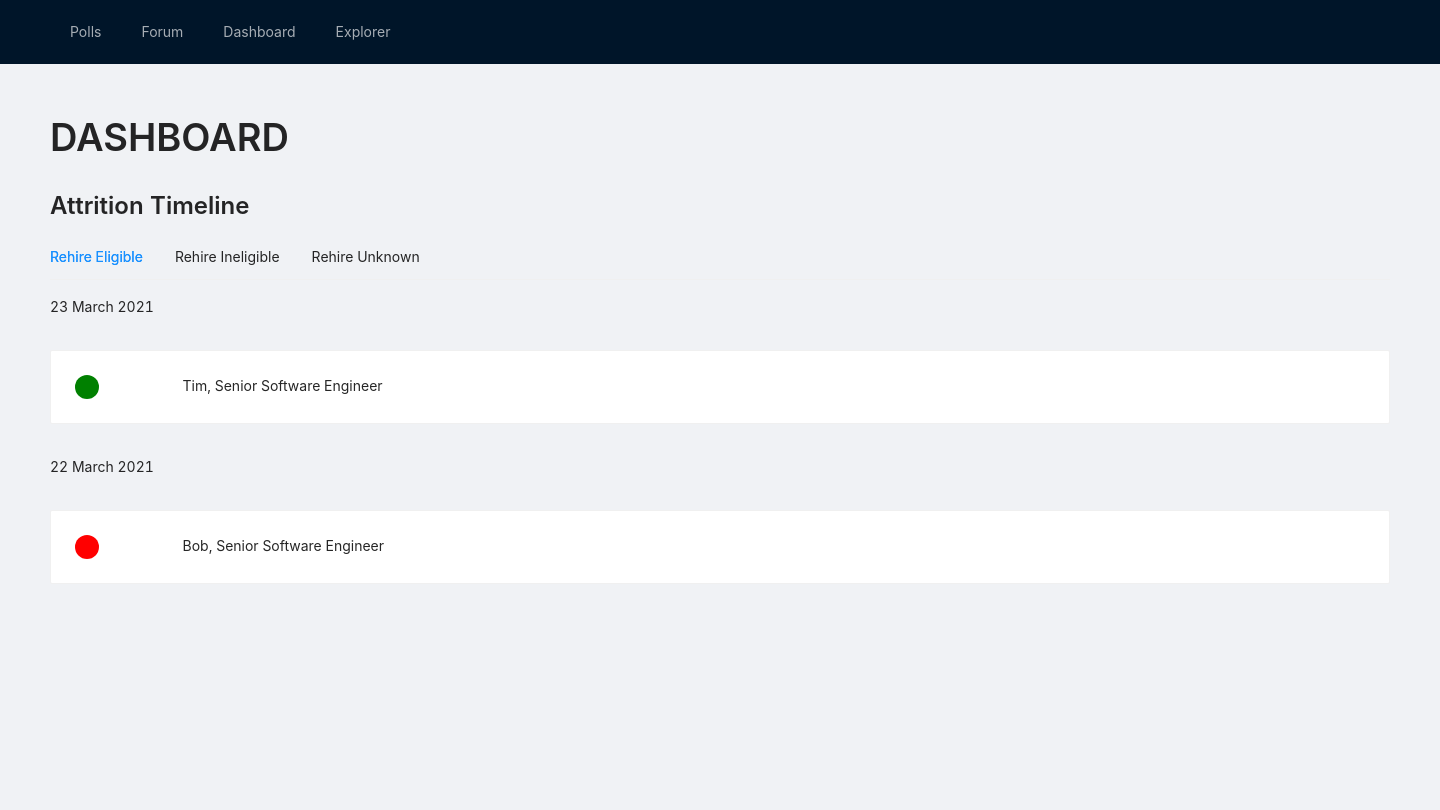
Test: main user actions in dashboard
The image size is (1440, 810).
Expected: the heading "DASHBOARD" is shown, [50,114,289,160]
Expected: the heading "Attrition Timeline" is shown, [50,190,250,220]
// Modal should appear on clicking an employee profile
Click the text "Tim, Senior Software Engineer". click: [283, 385]
box: [182,377,383,394]
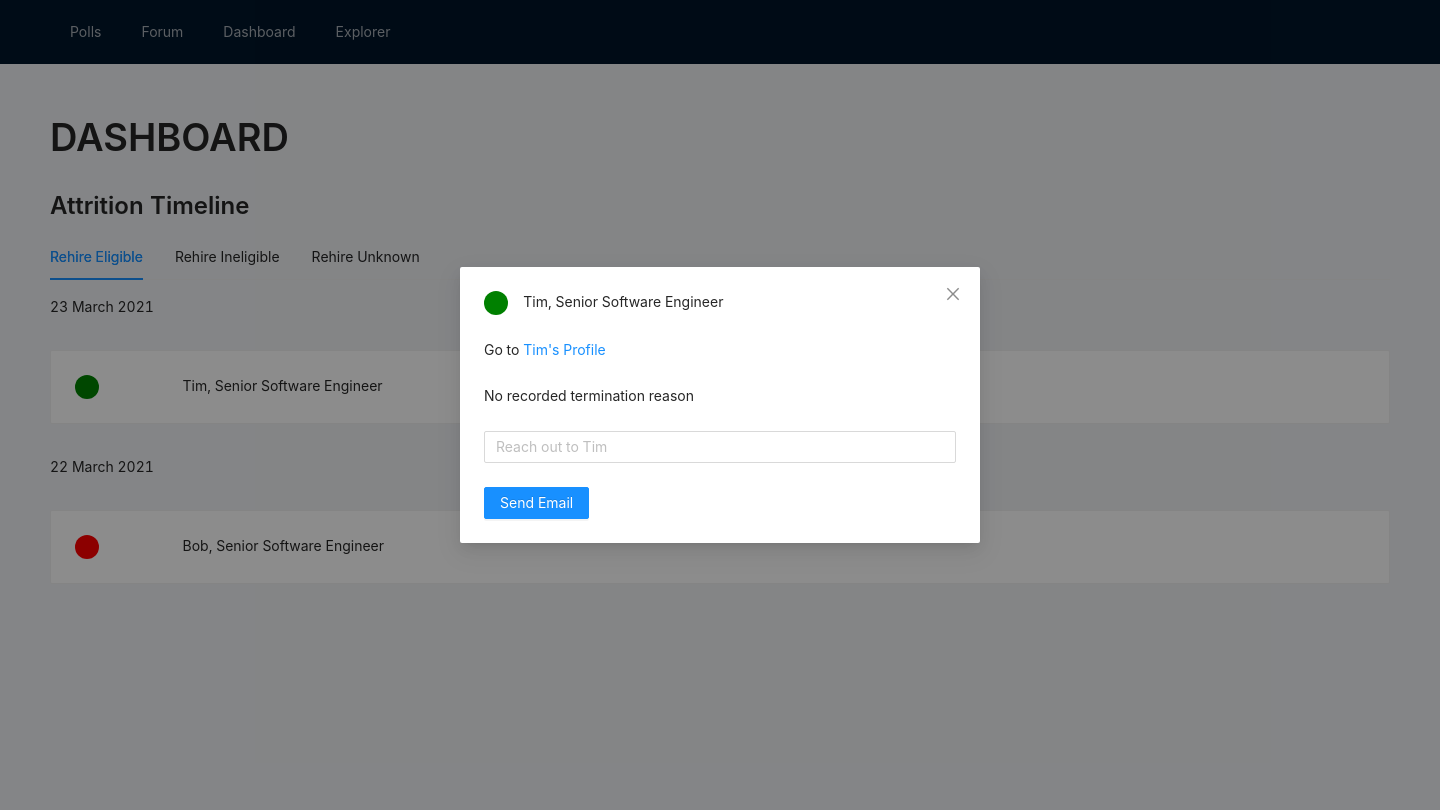
Expected: the text "No recorded termination reason" is shown, [484,387,694,404]
// Error message should appear when user tries to send an email to employee without a message
Click the button "Send Email". click: [537, 503]
box: [484,487,589,519]
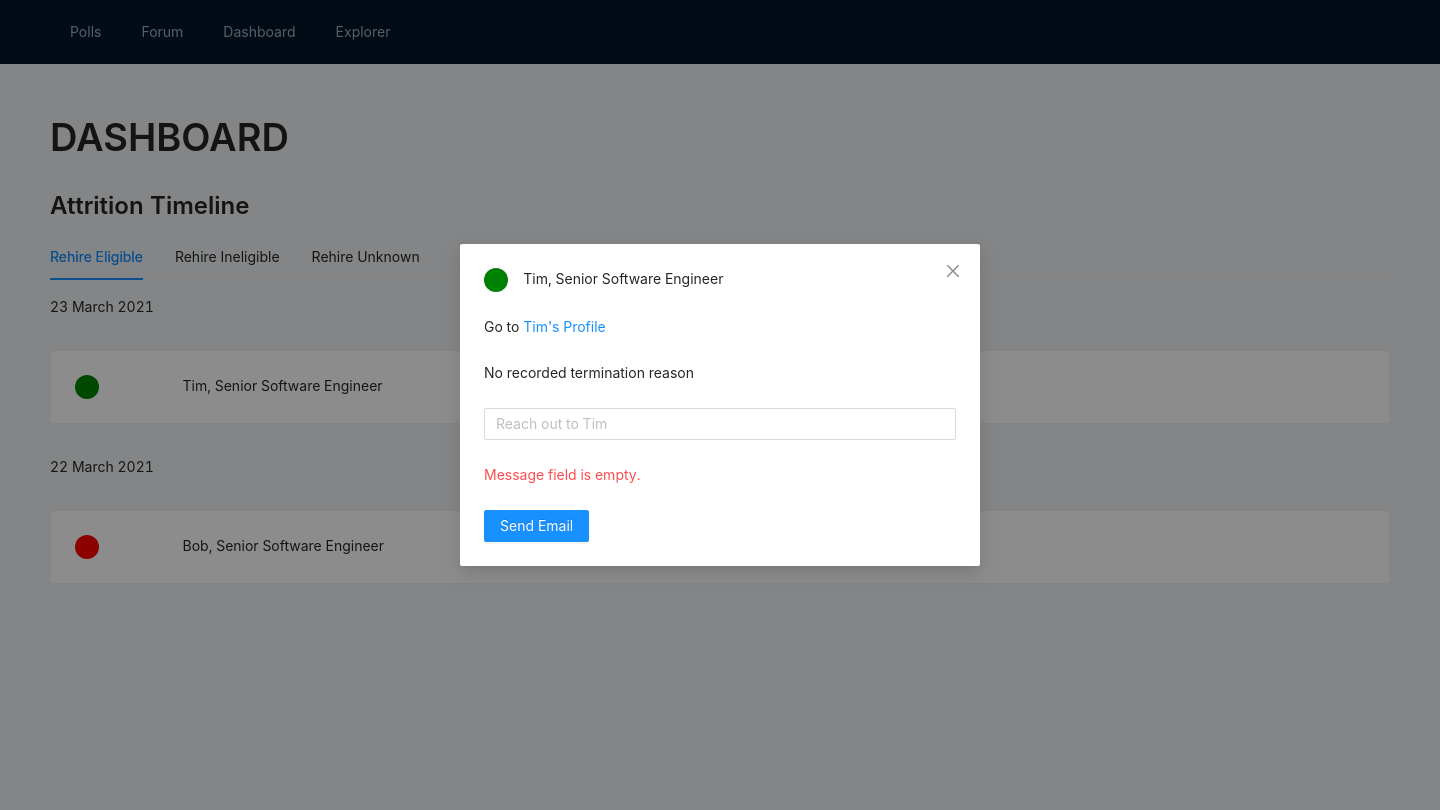
Expected: the text "Message field is empty." is shown, [484,466,640,483]
// Modal should close when user enters a message and sends out email
Type "sample message" into the field with placeholder "Reach out to Tim". click: [720, 424]
box: [484,408,956,440]
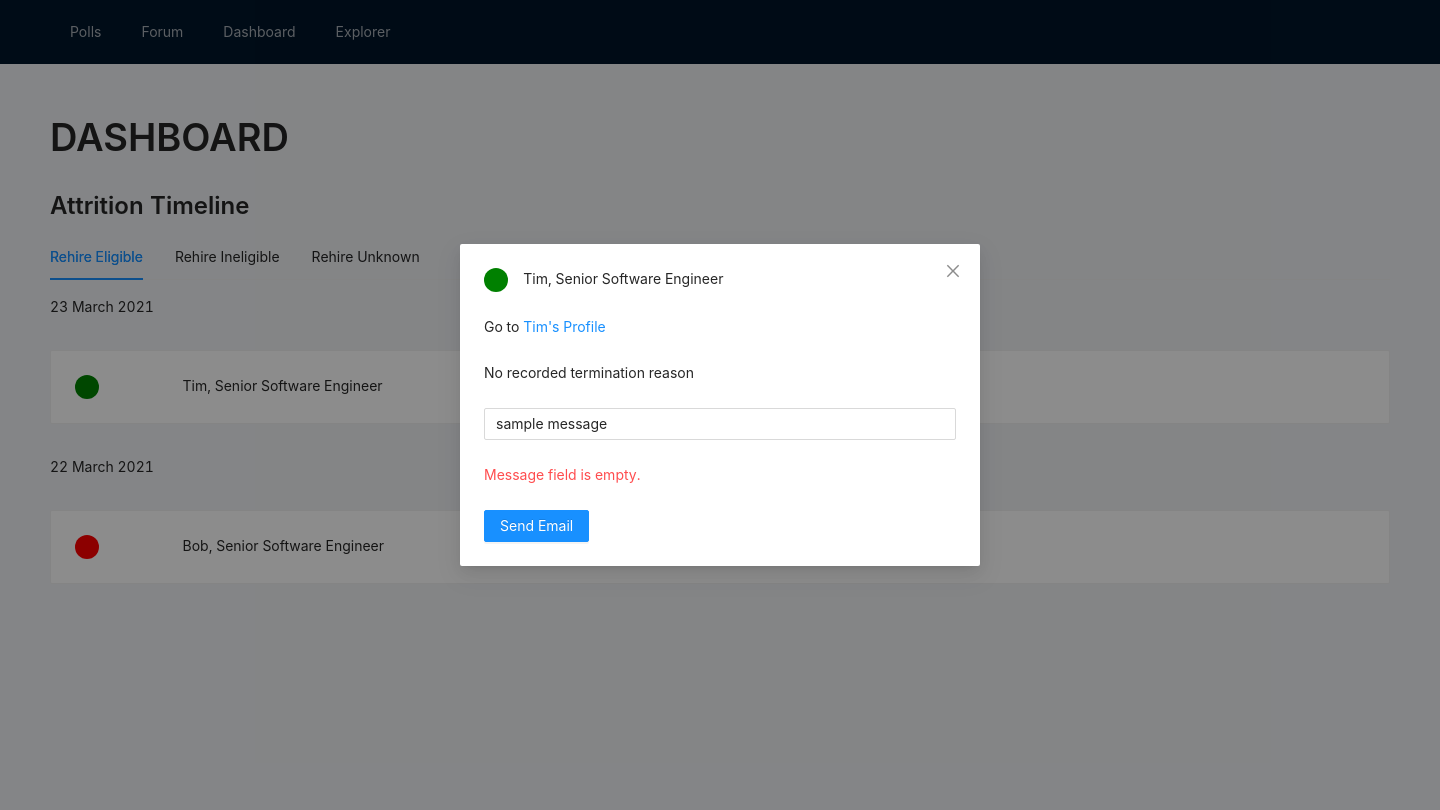
Click the button "Send Email". click: [537, 526]
box: [484,510,589,542]
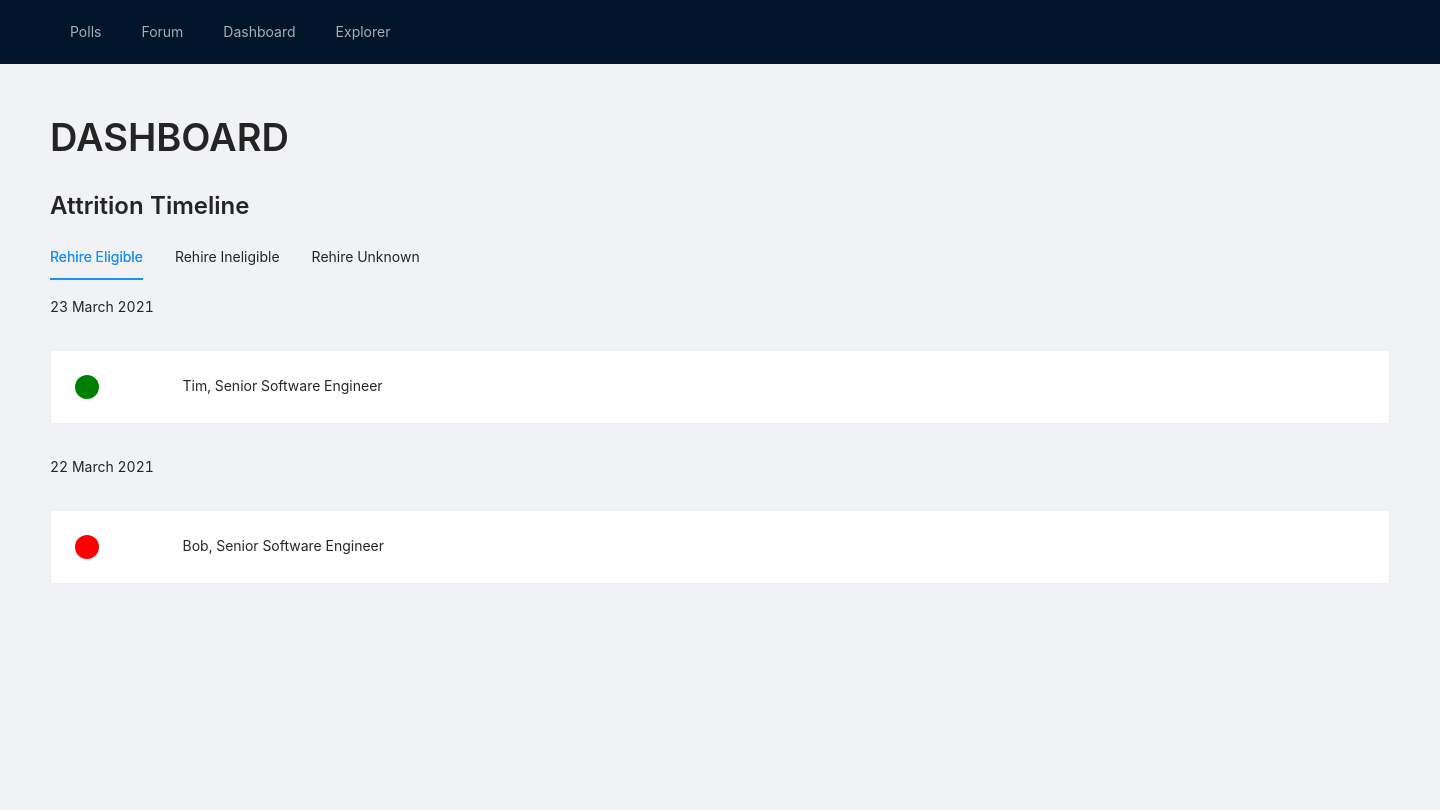
Expected: the text "No recorded termination reason" is gone
